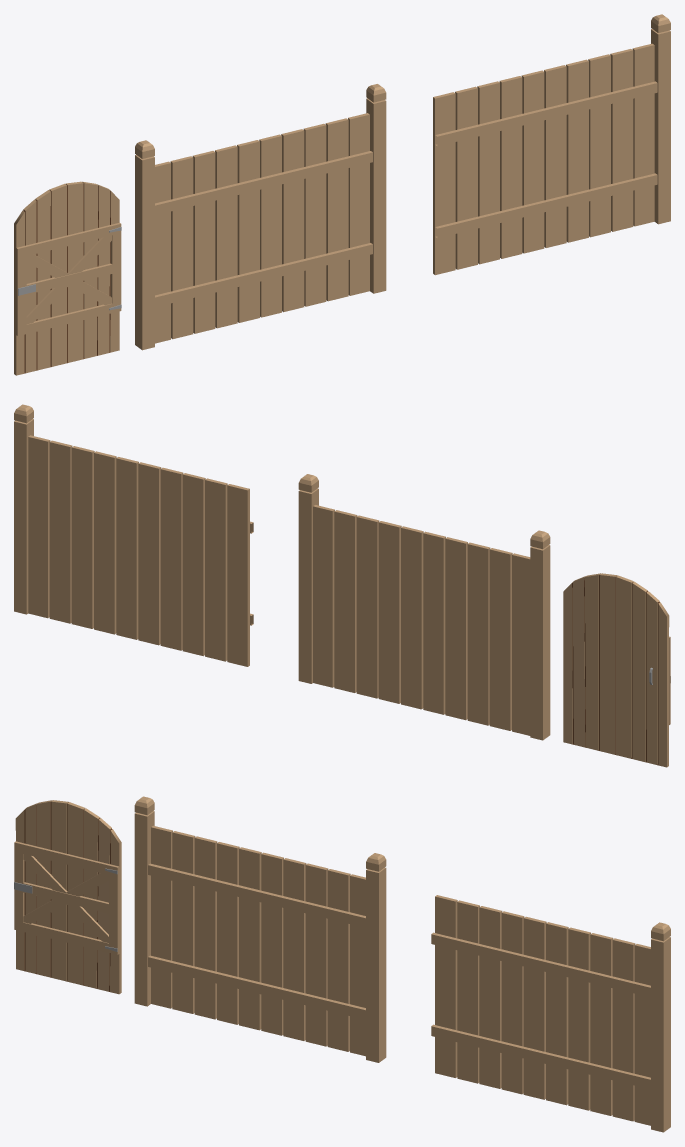
Rendered from Fence_modular_02.fbx.
3 views of the same model, one above another, from view 1: azimuth 30°, elevation 25°; view 2: azimuth 150°, elevation 25°; view 3: azimuth 330°, elevation 25° (orthographic).
Parts seen in each view (by area): view 1: Fence_04, Fence_05, Gate_01; view 2: Fence_04, Fence_05, Gate_01; view 3: Fence_04, Fence_05, Gate_01.
Part boxes in pixels (box(x1,y1,x2,y2)): Fence_04: box(135, 84, 386, 350); Fence_05: box(433, 14, 670, 275); Gate_01: box(14, 181, 121, 375); Fence_04: box(298, 474, 550, 740); Fence_05: box(14, 404, 253, 666); Gate_01: box(563, 573, 670, 767); Fence_04: box(134, 796, 386, 1062); Fence_05: box(431, 895, 670, 1132); Gate_01: box(14, 800, 121, 994).
Bounding box in the file's own units: 64.04 × 19.15 × 1.26.
